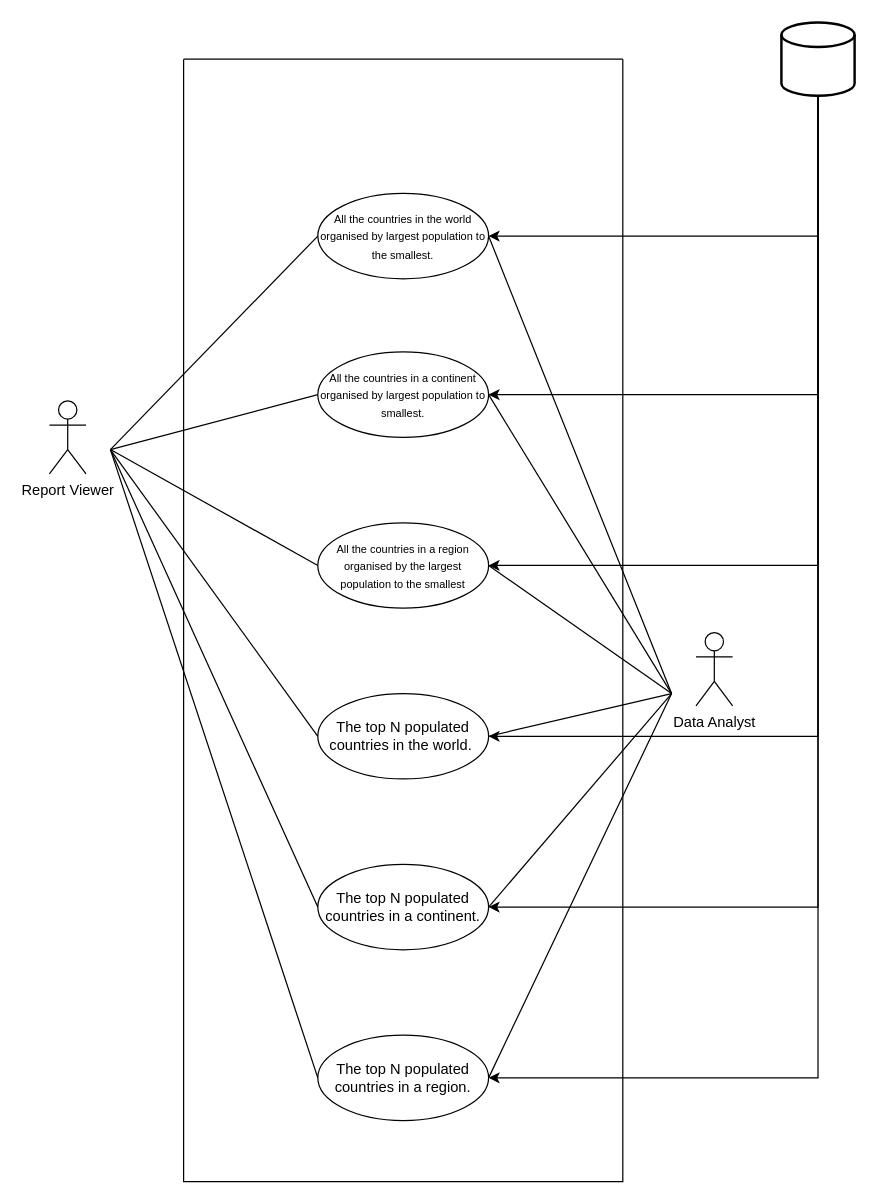
This 876x1203 diagram has some shape labels left out. The box of each missing label's shape, as (x1, y1, x2, y2) in pixels:
Population Reporting System: (182, 58, 623, 1182)
World.sql: (780, 21, 855, 96)
